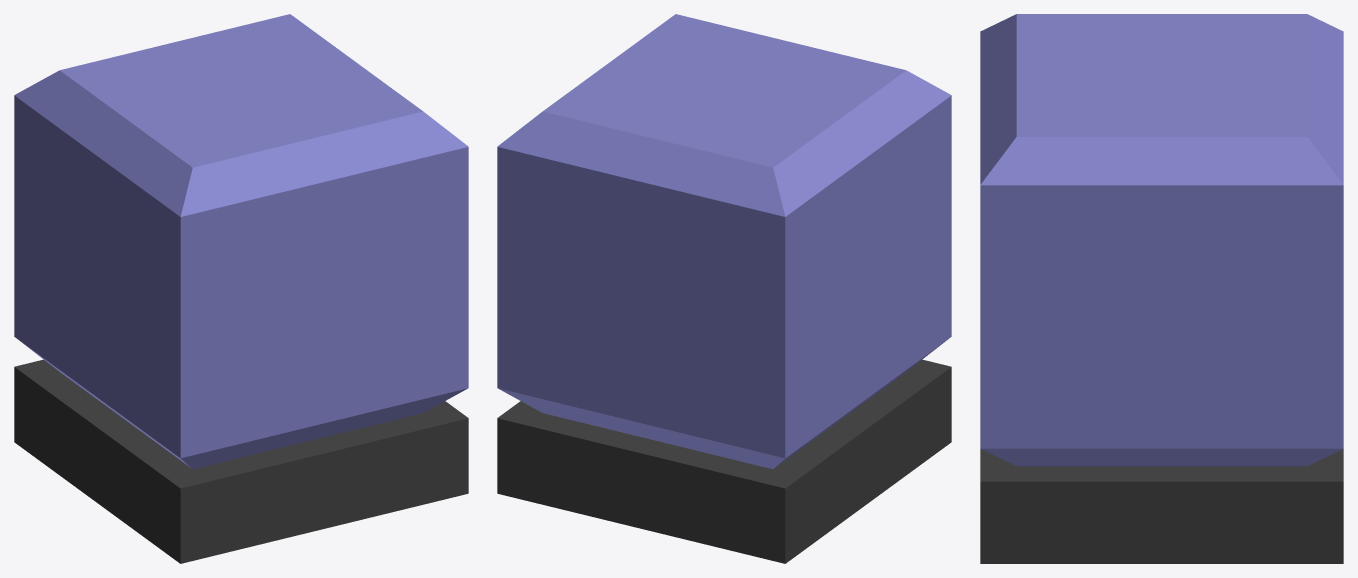
File: WallCube.fbx
3 views of the same model, side by side, from view 1: azimuth 30°, elevation 25°; view 2: azimuth 150°, elevation 25°; view 3: azimuth 270°, elevation 25° (orthographic). The views are drawn at different scales.
Visible parts, largest first — view 1: pCube83; view 2: pCube83; view 3: pCube83.
Boxes of the visible parts, x1=… form: pCube83: x1=14, y1=14, x2=468, y2=563; pCube83: x1=497, y1=14, x2=951, y2=563; pCube83: x1=980, y1=14, x2=1343, y2=563.
Bounding box in the file's own units: 1 × 1.25 × 1.
